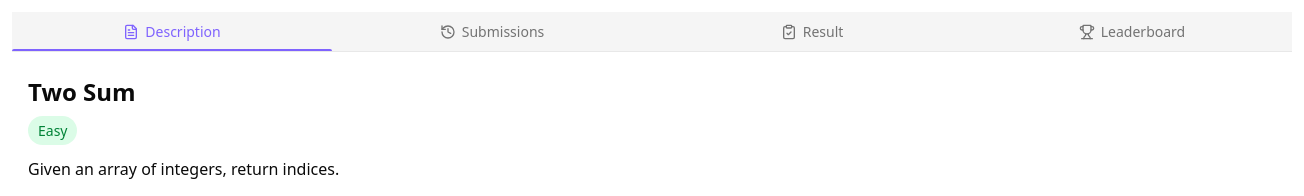
Test case: CodeDescArea — submissions tab › shows empty state when submissions prop is empty
Expected: the element with test id "tabs-list" is shown, [12, 12, 1292, 52]
Step 1. Click the tab "Submissions" → (492, 32), box [332, 12, 652, 51]
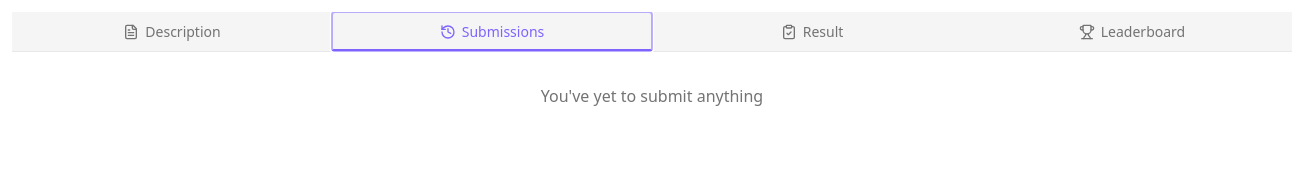
Expected: the text "You've yet to submit anything" is shown, [541, 85, 763, 107]
